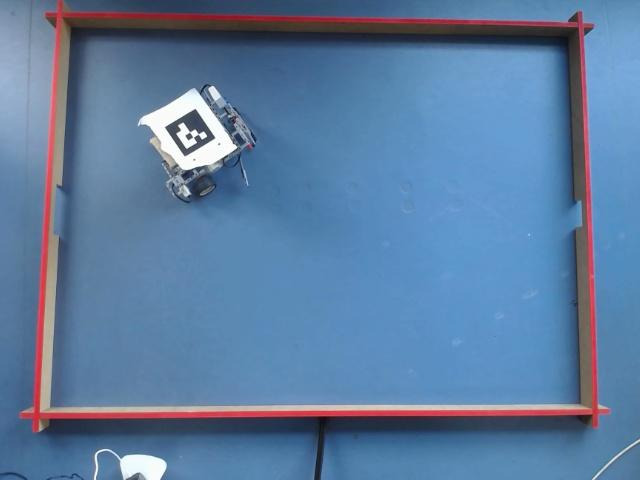ev3: (140, 85, 258, 203)
